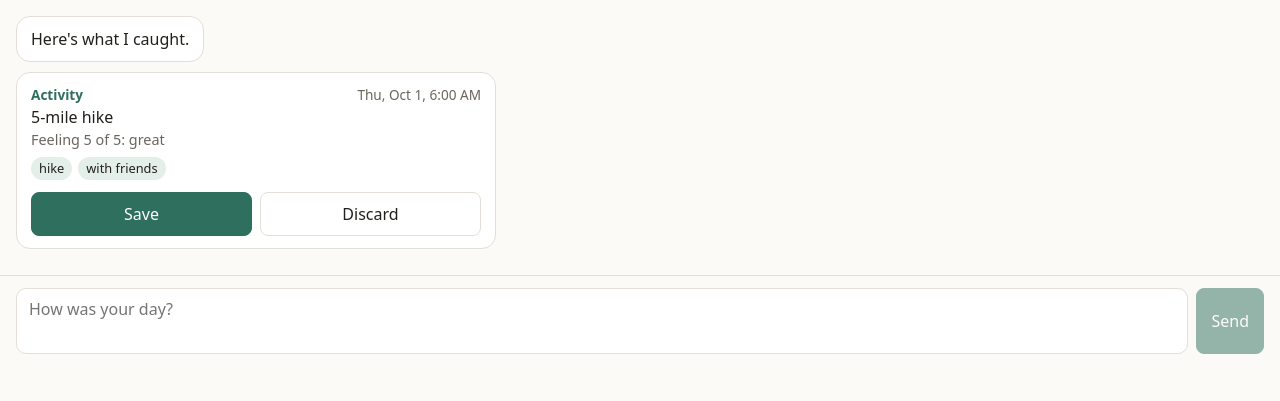
confirmation cards › offers Save again after a network failure
Click the button "Save".
click(142, 214)  # box x1=31 y1=192 x2=252 y2=236
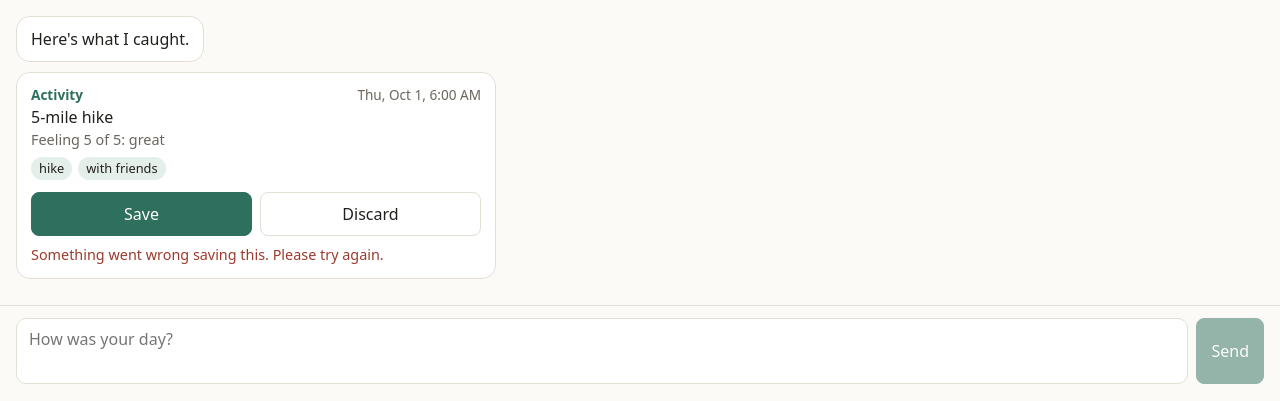
Expected: the message reads "Something went wrong saving this. Please try again.", x1=31 y1=245 x2=384 y2=264
Click the button "Save".
click(142, 214)  # box x1=31 y1=192 x2=252 y2=236
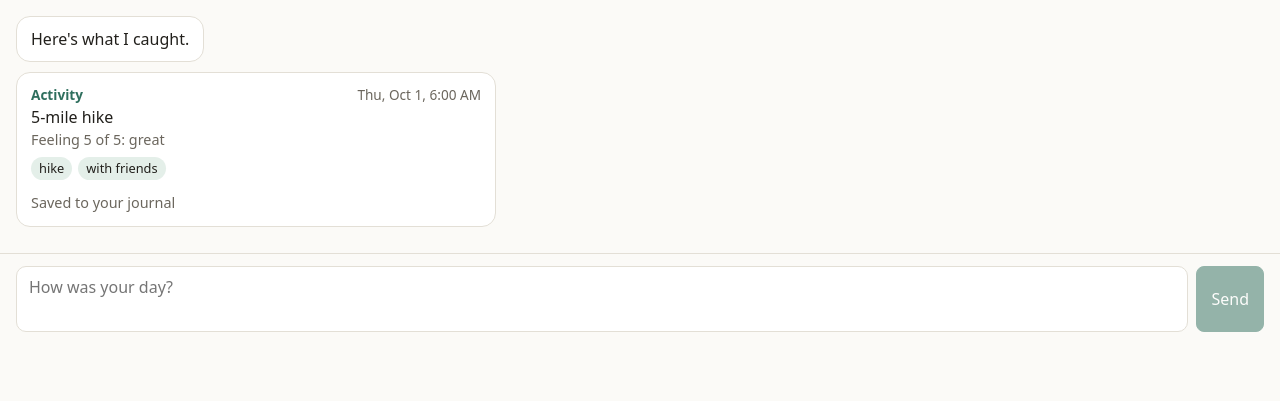
Expected: the text "Saved to your journal" is shown, x1=31 y1=193 x2=175 y2=212
